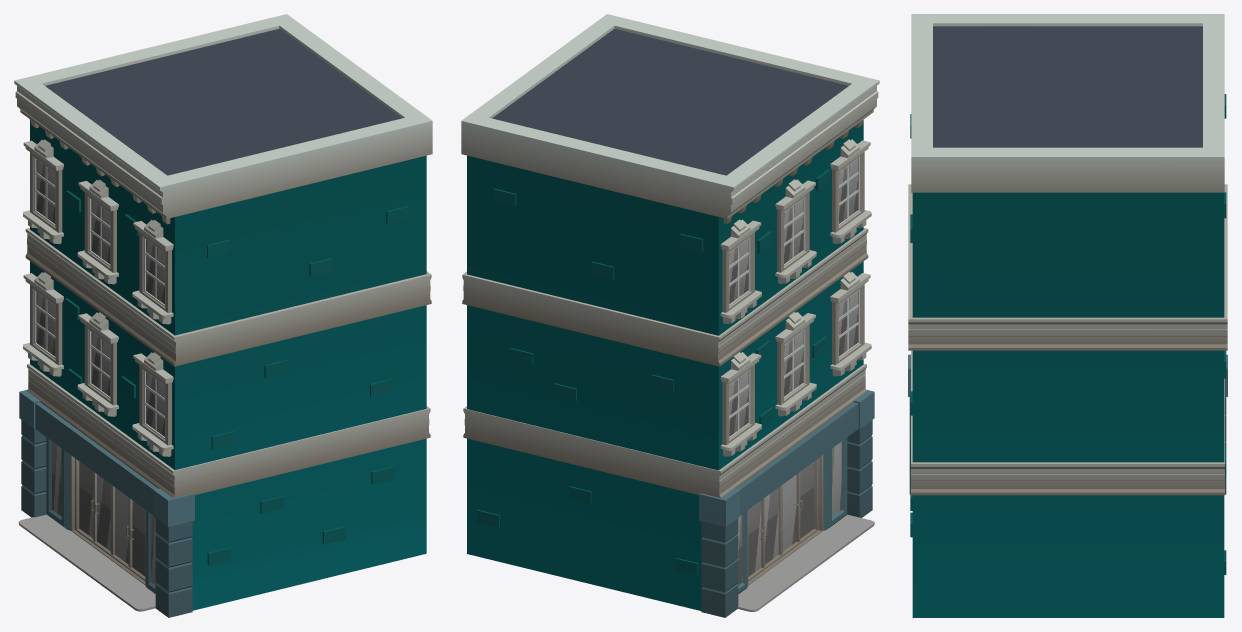
Rendered from Building_21_3_I.fbx.
The picture shows the model from 3 angles, left to right: view 1: azimuth 30°, elevation 25°; view 2: azimuth 150°, elevation 25°; view 3: azimuth 270°, elevation 25°; orthographic projection. The views are drawn at different scales.
Visible parts, largest first — view 1: Building_21_3_I; view 2: Building_21_3_I; view 3: Building_21_3_I.
Boxes of the visible parts, bbox=[...] form: Building_21_3_I: bbox=[14, 14, 432, 617]; Building_21_3_I: bbox=[461, 14, 879, 617]; Building_21_3_I: bbox=[908, 14, 1227, 617].
Bounding box in the file's own units: 779 × 1141 × 713.
